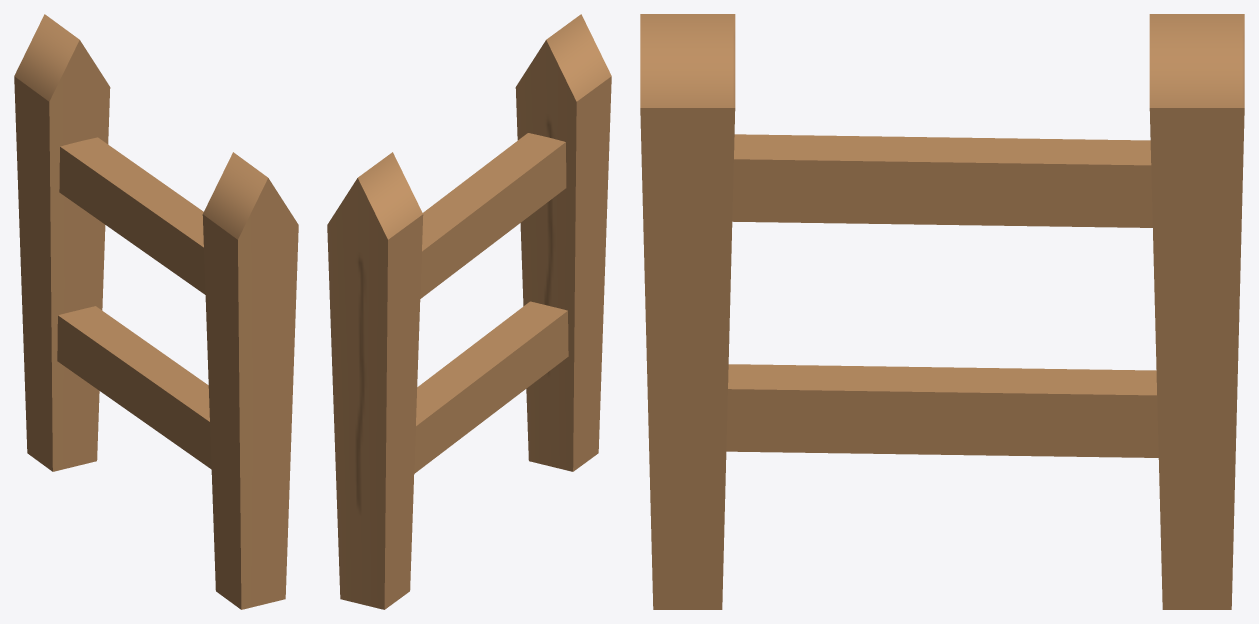
Rendered from FBX_VallaTile03.fbx.
3 renders of one model, left to right at view 1: azimuth 30°, elevation 25°; view 2: azimuth 150°, elevation 25°; view 3: azimuth 270°, elevation 25°, orthographic. The views are drawn at different scales.
Parts seen in each view (by area): view 1: Reescalado_pCube48; view 2: Reescalado_pCube48; view 3: Reescalado_pCube48.
Part boxes in pixels (x1,y1,x2,y2): Reescalado_pCube48: [14, 14, 298, 609]; Reescalado_pCube48: [327, 14, 611, 609]; Reescalado_pCube48: [640, 14, 1244, 609].
Bounding box in the file's own units: 7.15 × 48.3 × 45.51.
